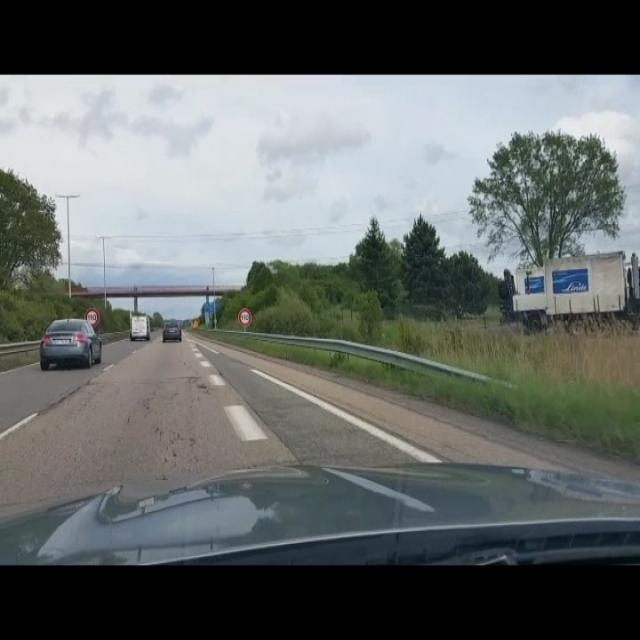speed_110: (238, 308, 252, 328)
